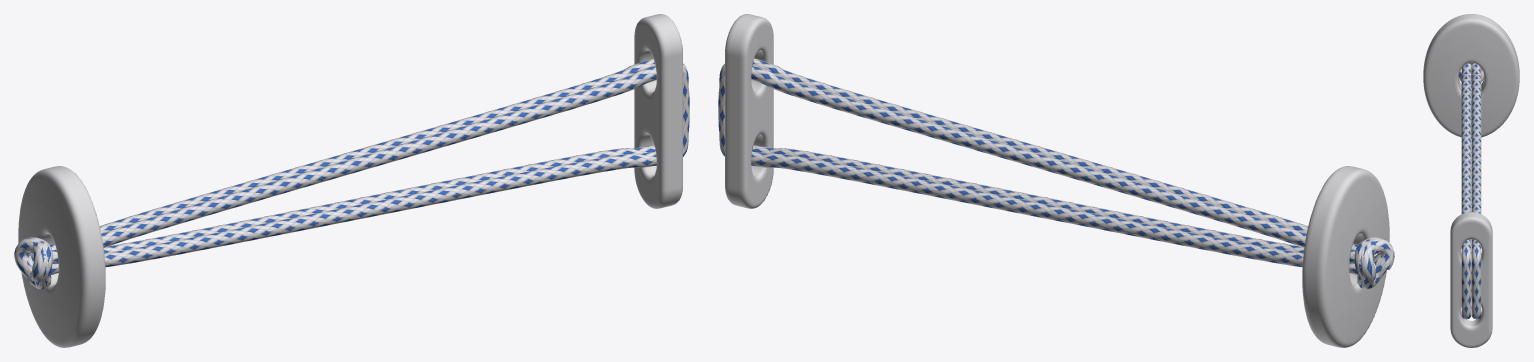
File: cwingbutton_lod0.glb
3 renders of one model, left to right at view 1: azimuth 30°, elevation 25°; view 2: azimuth 150°, elevation 25°; view 3: azimuth 270°, elevation 25°, orthographic. The views are drawn at different scales.
Parts seen in each view (by area): view 1: cwingbutton; view 2: cwingbutton; view 3: cwingbutton.
Part boxes in pixels (x1=…): cwingbutton: x1=14, y1=14, x2=689, y2=347; cwingbutton: x1=718, y1=14, x2=1394, y2=347; cwingbutton: x1=1423, y1=14, x2=1519, y2=347.
Size of the model in its own units: 0.0443 by 0.012 by 0.008.
2 materials, 1 textured.
